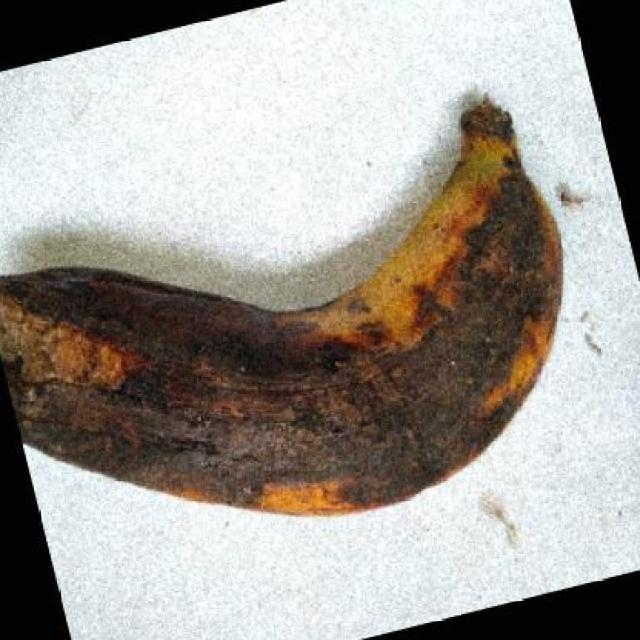Rotten: (0, 77, 592, 537)
